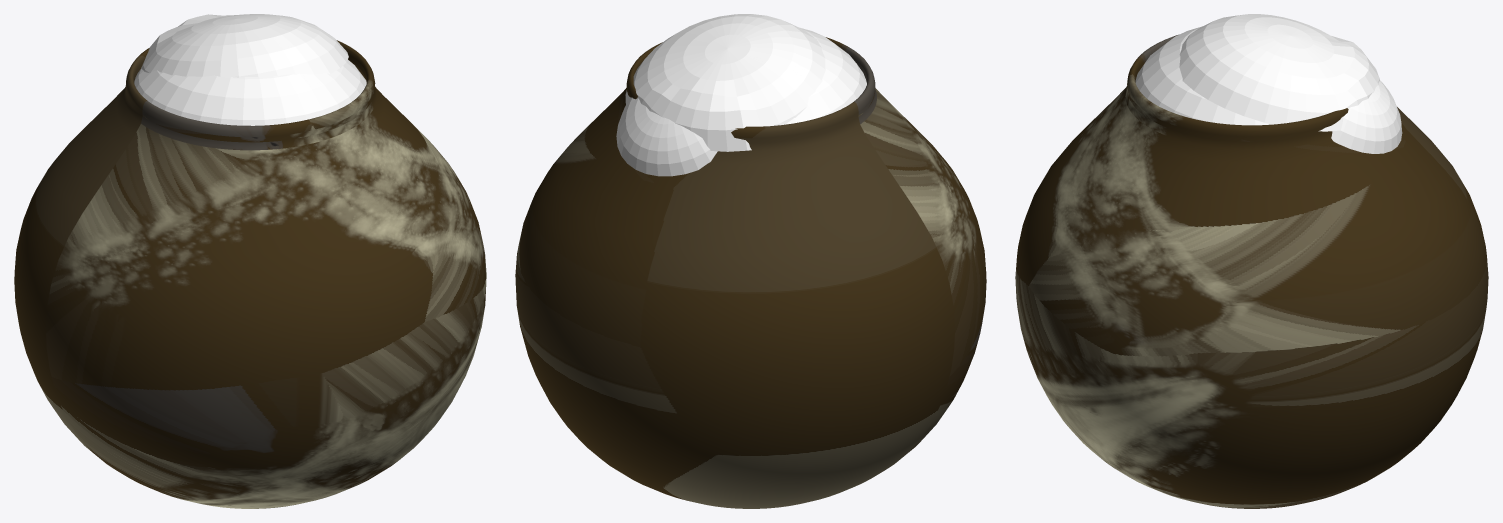
The model's file is pongalPot.gltf.
The picture shows the model from 3 angles, left to right: view 1: azimuth 30°, elevation 25°; view 2: azimuth 150°, elevation 25°; view 3: azimuth 270°, elevation 25°; orthographic projection.
Parts seen in each view (by area): view 1: Sphere_0, Sphere.001_1; view 2: Sphere_0, Sphere.001_1; view 3: Sphere_0, Sphere.001_1.
Boxes of the visible parts, x1,y1,x2,y2 form: Sphere_0: (14,40,486,508); Sphere.001_1: (134,14,366,125); Sphere_0: (515,37,986,508); Sphere.001_1: (616,14,866,176); Sphere_0: (1015,34,1488,508); Sphere.001_1: (1135,14,1402,153).
Size of the model in its own units: 1.59 by 1.7 by 1.59.
Materials: 2 (1 with a texture image).
